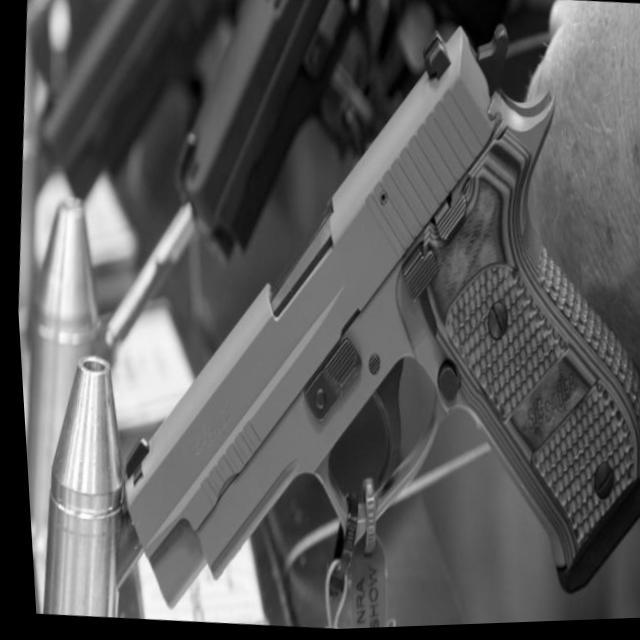weapon: (77, 0, 640, 638)
